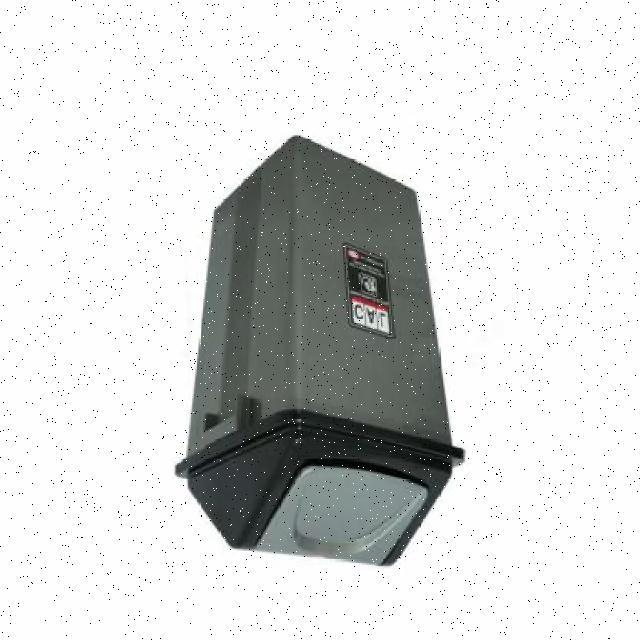garbage container: (173, 120, 475, 577)
